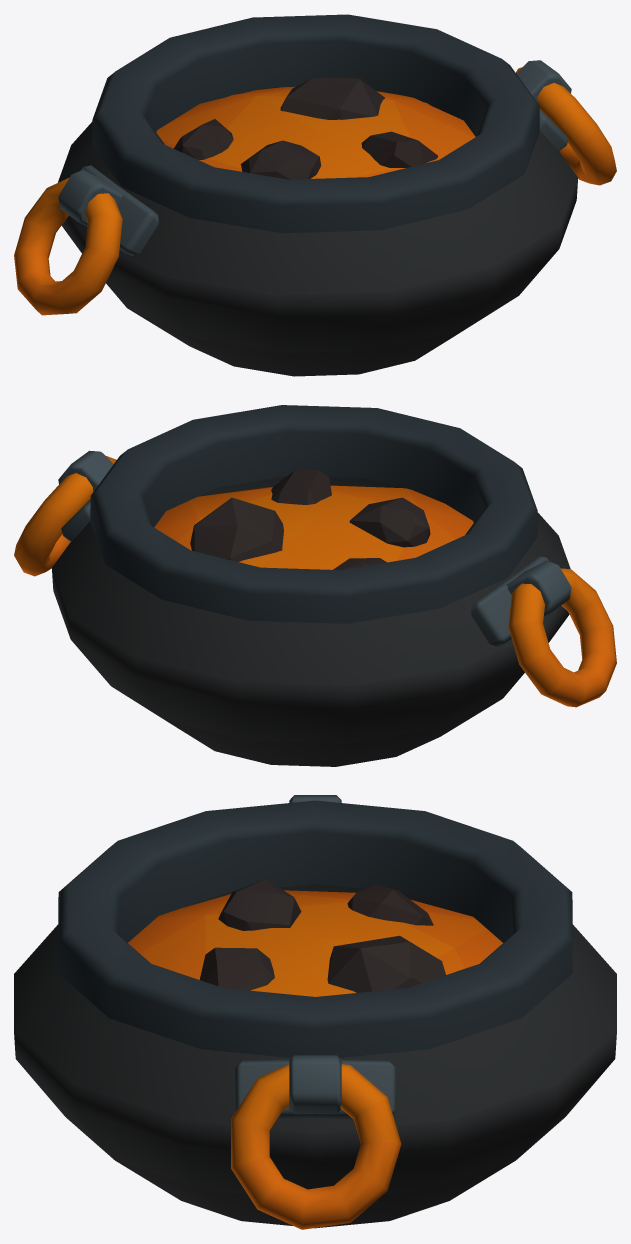
Rendered from brazier_004.glb.
The picture shows the model from 3 angles, top to bottom: view 1: azimuth 30°, elevation 25°; view 2: azimuth 150°, elevation 25°; view 3: azimuth 270°, elevation 25°; orthographic projection. The views are drawn at different scales.
Parts seen in each view (by area): view 1: Brazier_004; view 2: Brazier_004; view 3: Brazier_004.
Boxes of the visible parts, x1,y1,x2,y2 form: Brazier_004: (14, 14, 616, 376); Brazier_004: (14, 405, 616, 766); Brazier_004: (14, 795, 616, 1229).
Size of the model in its own units: 1.29 by 0.4558 by 1.
